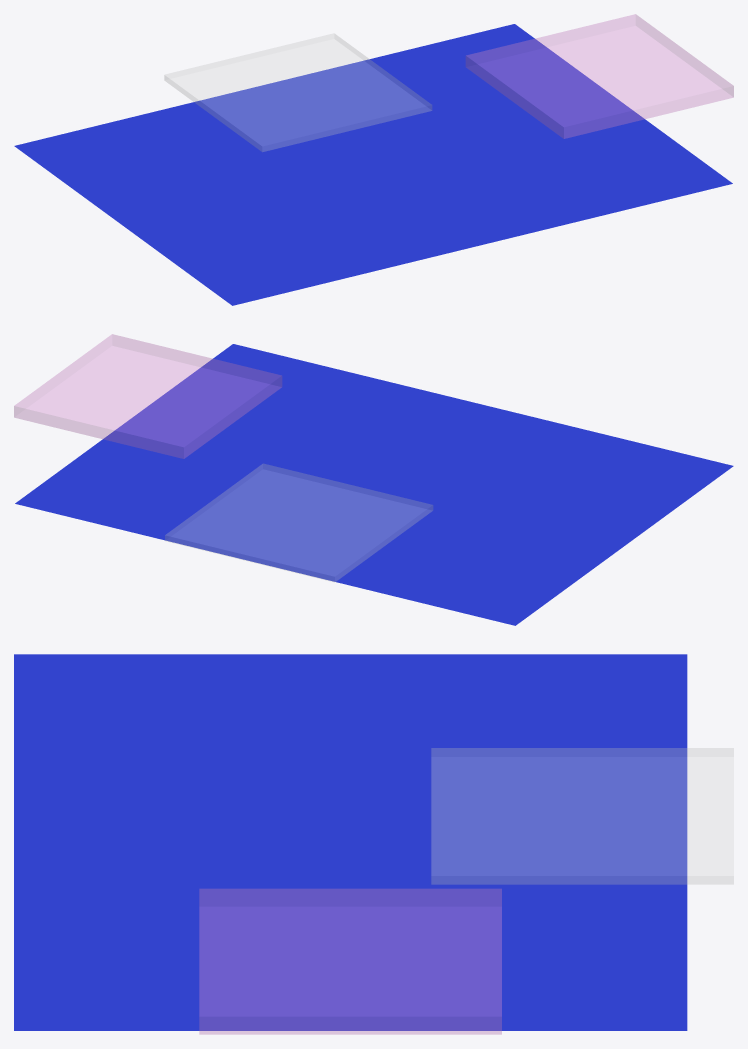
Rendered from Glass_Experiment_4.fbx.
3 renders of one model, top to bottom at view 1: azimuth 30°, elevation 25°; view 2: azimuth 150°, elevation 25°; view 3: azimuth 270°, elevation 25°, orthographic. The views are drawn at different scales.
Visible parts, largest first — view 1: Plane, Plane.001, Plane.002; view 2: Plane, Plane.001, Plane.002; view 3: Plane, Plane.001, Plane.002.
Boxes of the visible parts, x1,y1,x2,y2 form: Plane: (14, 24, 732, 305); Plane.001: (466, 14, 733, 138); Plane.002: (164, 33, 431, 151); Plane: (15, 344, 733, 625); Plane.001: (14, 334, 281, 458); Plane.002: (165, 464, 432, 581); Plane: (14, 654, 687, 1030); Plane.001: (199, 889, 501, 1034); Plane.002: (431, 748, 733, 884).
Size of the model in its own units: 660 by 43.76 by 476.
